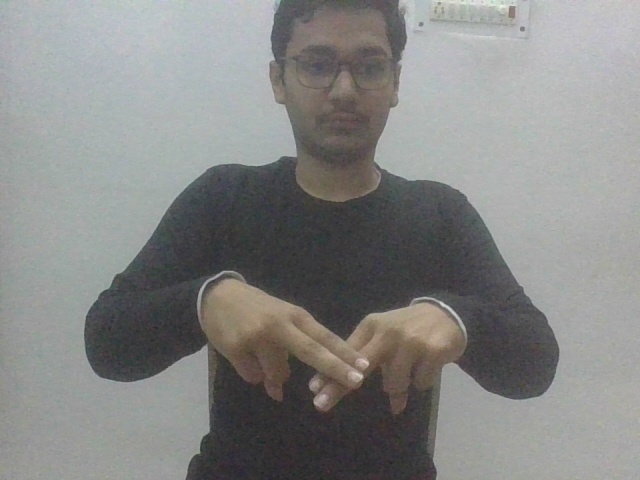F: (196, 273, 474, 418)
